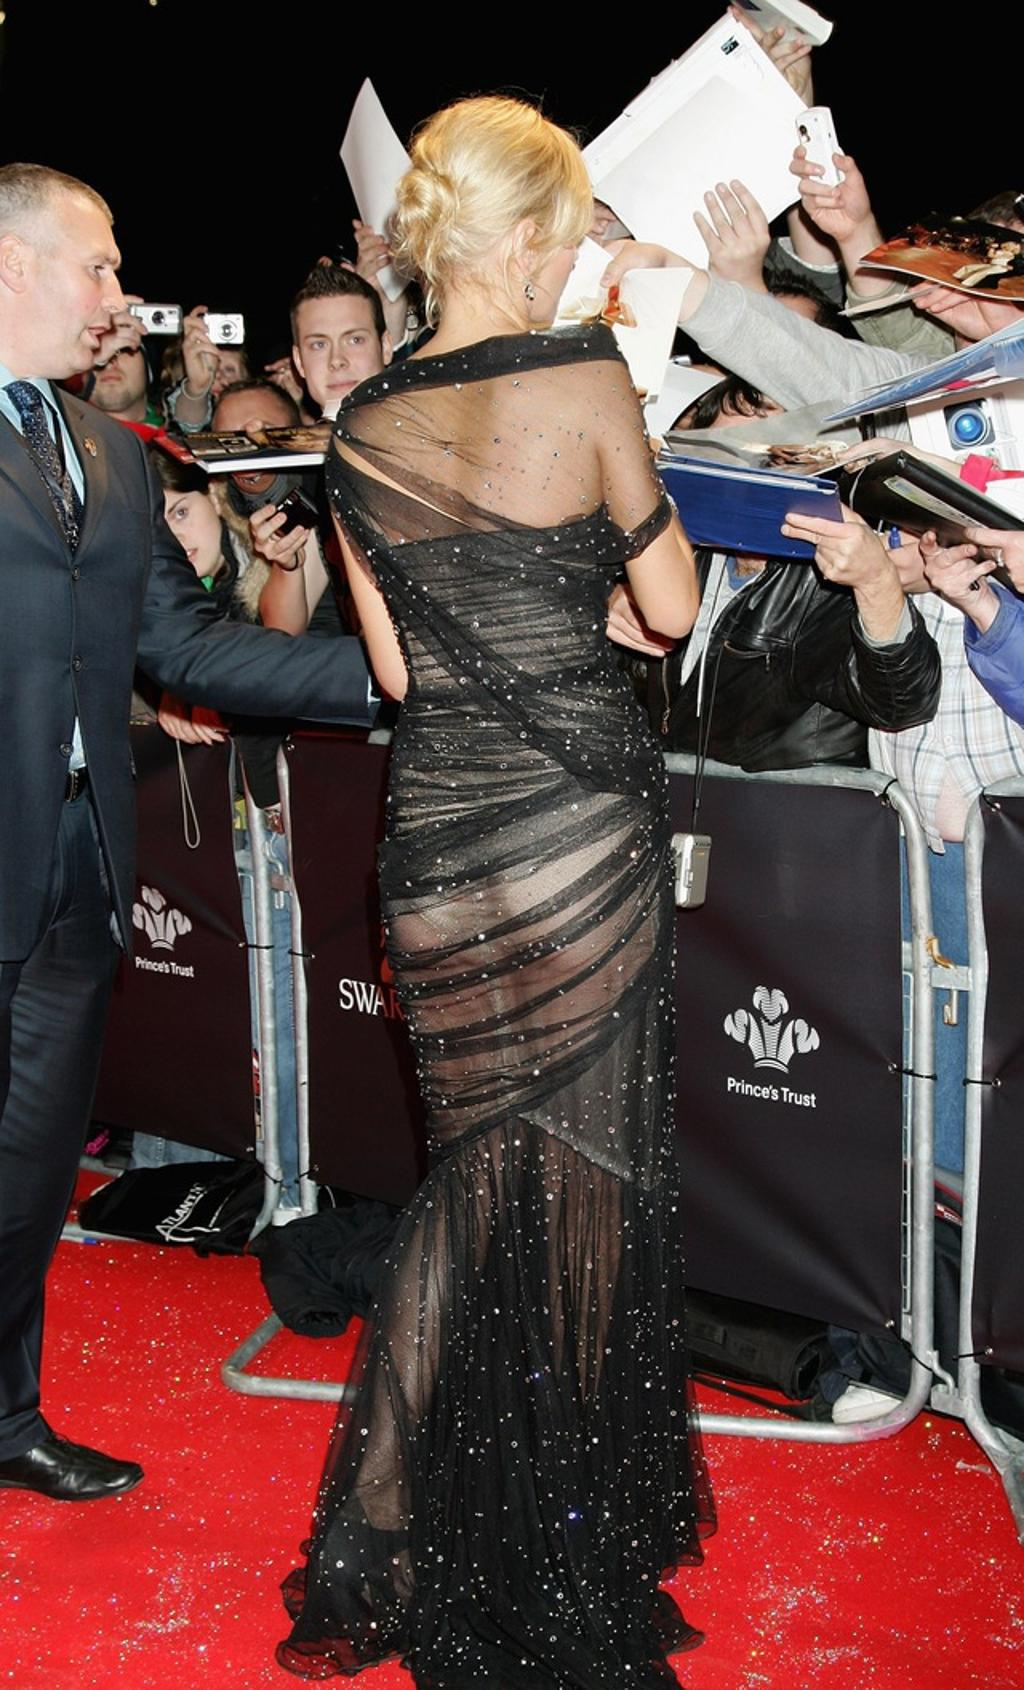face: (26, 195, 118, 377), (294, 287, 383, 413), (145, 469, 218, 585), (218, 386, 291, 488), (89, 311, 148, 403)
